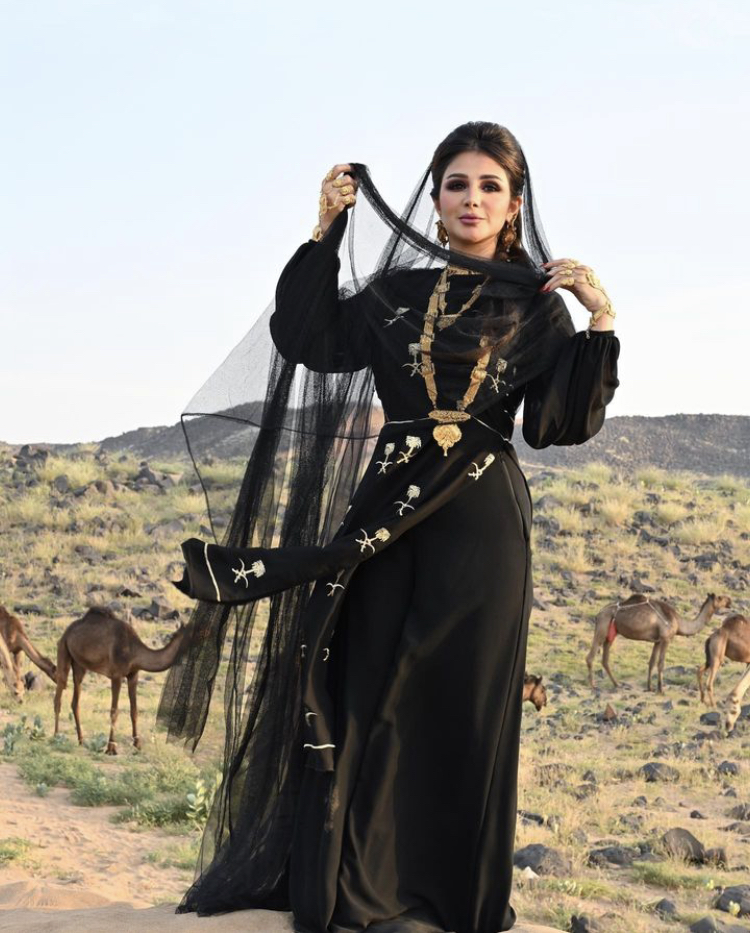Saudi_Founding_Day: (173, 114, 626, 933)
